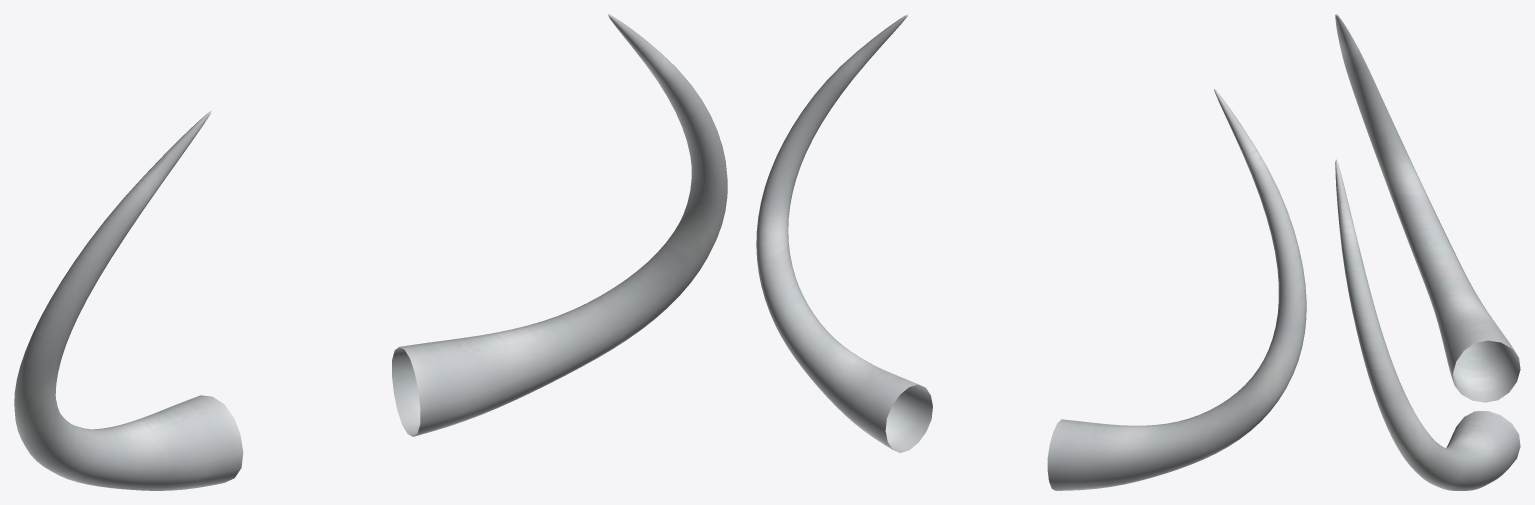
The model's file is minotaurhorns-lite.glb.
The picture shows the model from 3 angles, left to right: view 1: azimuth 30°, elevation 25°; view 2: azimuth 150°, elevation 25°; view 3: azimuth 270°, elevation 25°; orthographic projection. The views are drawn at different scales.
Parts seen in each view (by area): view 1: minotaurhorns; view 2: minotaurhorns; view 3: minotaurhorns.
Boxes of the visible parts, left/top/right/bottom form: minotaurhorns: left=14, top=14, right=727, bottom=490; minotaurhorns: left=756, top=14, right=1306, bottom=490; minotaurhorns: left=1335, top=14, right=1520, bottom=490.
Size of the model in its own units: 0.4259 by 0.2718 by 0.1296.
1 material, 1 textured.
